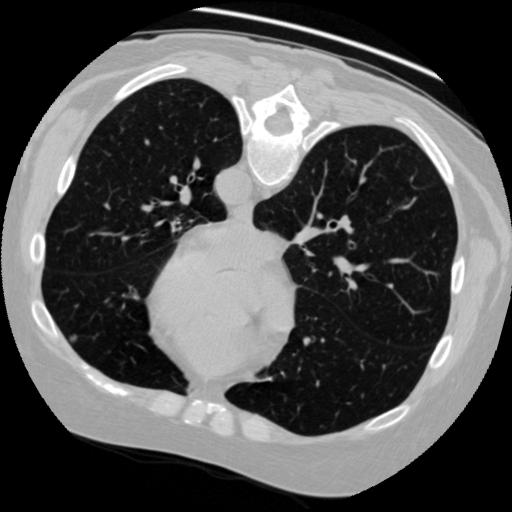nodule: (68, 333, 81, 346)
